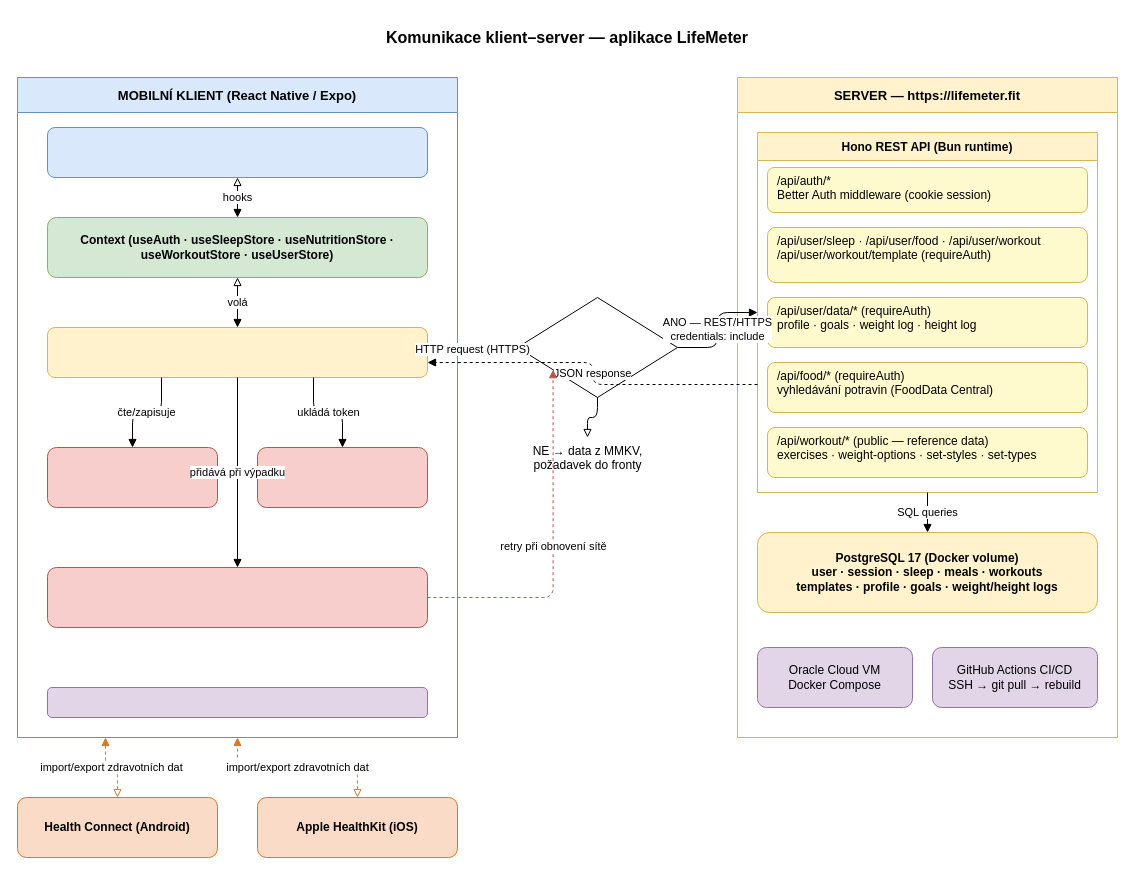
The diagram is 1135 pixels wide and 875 high, and some of its shapes have lost their labels. Each missing label, with the centre of its shape:
"expo-secure-store (Keystore / Secure Enclave)" goes at pixel 342 477.
"MMKV (offline cache)" goes at pixel 132 477.
"Navigace (@react-navigation — Stack + BottomTabs)" goes at pixel 237 702.
"Obrazovky (View / *.tsx)" goes at pixel 237 152.
"Offline fronta (retry queue) požadavky čekající na síť" goes at pixel 237 597.
"Service třídy (*.service.ts)" goes at pixel 237 352.
"Síť dostupná?" goes at pixel 597 347.
